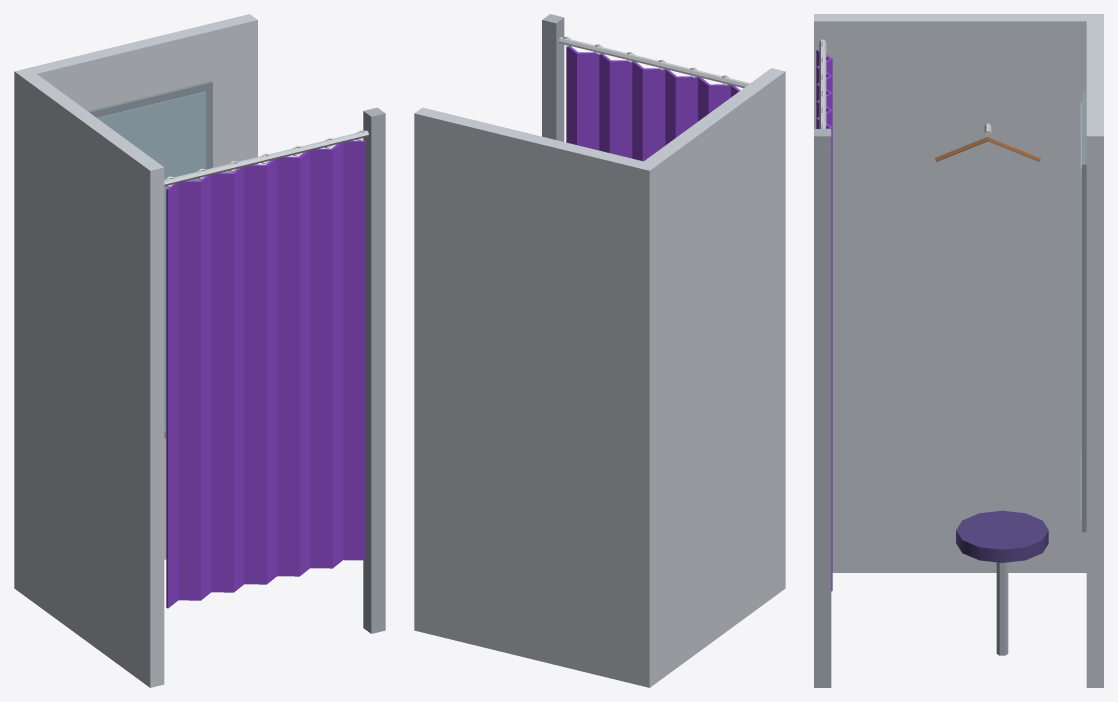
File: fitting_room.glb
The picture shows the model from 3 angles, left to right: view 1: azimuth 30°, elevation 25°; view 2: azimuth 150°, elevation 25°; view 3: azimuth 270°, elevation 25°; orthographic projection. The views are drawn at different scales.
Parts seen in each view (by area): view 1: fitting_room; view 2: fitting_room; view 3: fitting_room.
Boxes of the visible parts, x1,y1,x2,y2 form: fitting_room: (14,14,385,687); fitting_room: (414,14,785,687); fitting_room: (814,14,1103,687).
Bounding box in the file's own units: 1 × 2.1 × 1.
